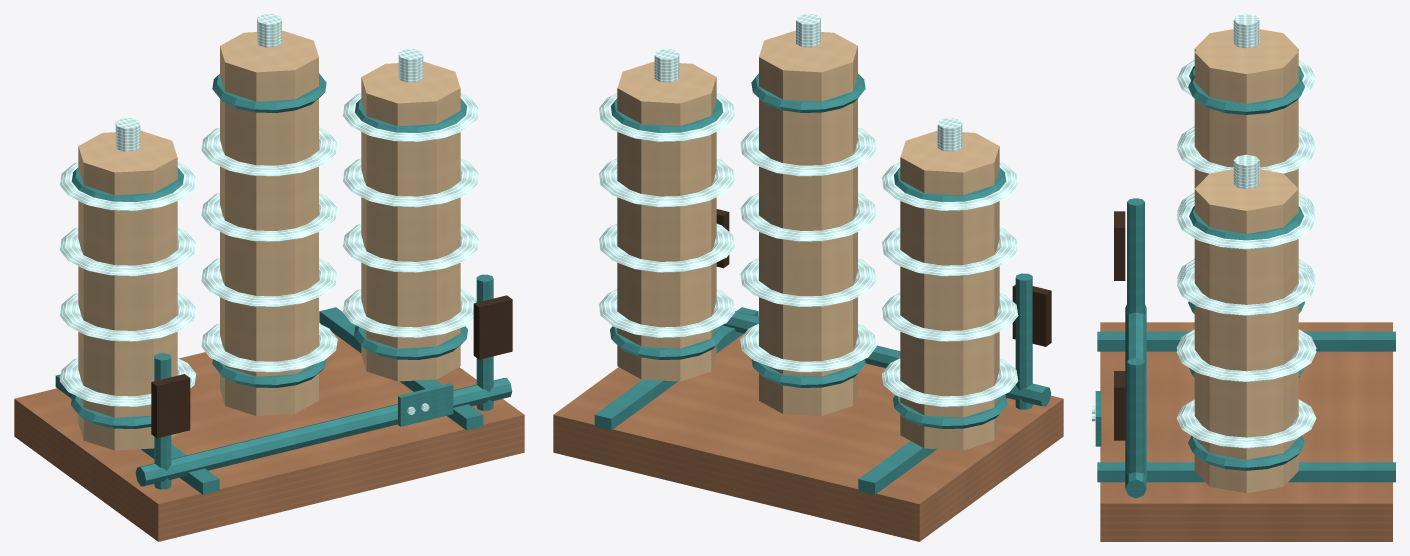
The model's file is atlas100-s094-a01.glb.
3 renders of one model, left to right at view 1: azimuth 30°, elevation 25°; view 2: azimuth 150°, elevation 25°; view 3: azimuth 270°, elevation 25°, orthographic.
Parts seen in each view (by area): view 1: atlas100-s094-a01:part-000, atlas100-s094-a01:part-011, atlas100-s094-a01:part-019, atlas100-s094-a01:part-003, atlas100-s094-a01:part-031, atlas100-s094-a01:part-008, atlas100-s094-a01:part-009, atlas100-s094-a01:part-025, atlas100-s094-a01:part-024, atlas100-s094-a01:part-015, atlas100-s094-a01:part-018, atlas100-s094-a01:part-017 (+21 smaller); view 2: atlas100-s094-a01:part-000, atlas100-s094-a01:part-011, atlas100-s094-a01:part-003, atlas100-s094-a01:part-019, atlas100-s094-a01:part-008, atlas100-s094-a01:part-023, atlas100-s094-a01:part-009, atlas100-s094-a01:part-025, atlas100-s094-a01:part-024, atlas100-s094-a01:part-007, atlas100-s094-a01:part-015, atlas100-s094-a01:part-018 (+18 smaller); view 3: atlas100-s094-a01:part-000, atlas100-s094-a01:part-019, atlas100-s094-a01:part-011, atlas100-s094-a01:part-002, atlas100-s094-a01:part-001, atlas100-s094-a01:part-023, atlas100-s094-a01:part-025, atlas100-s094-a01:part-024, atlas100-s094-a01:part-027, atlas100-s094-a01:part-029, atlas100-s094-a01:part-031, atlas100-s094-a01:part-026 (+10 smaller).
Part boxes in pixels (x1,y1,x2,y2): atlas100-s094-a01:part-000: (14,324,524,541); atlas100-s094-a01:part-011: (220,30,318,415); atlas100-s094-a01:part-019: (361,61,460,381); atlas100-s094-a01:part-003: (78,130,177,450); atlas100-s094-a01:part-031: (135,378,512,486); atlas100-s094-a01:part-008: (59,293,196,341); atlas100-s094-a01:part-009: (59,227,196,276); atlas100-s094-a01:part-025: (342,158,479,207); atlas100-s094-a01:part-024: (342,223,479,272); atlas100-s094-a01:part-015: (201,323,337,372); atlas100-s094-a01:part-018: (201,127,337,176); atlas100-s094-a01:part-017: (201,192,337,241); atlas100-s094-a01:part-000: (553,333,1063,541); atlas100-s094-a01:part-011: (759,30,857,415); atlas100-s094-a01:part-003: (900,130,999,450); atlas100-s094-a01:part-019: (617,61,716,381); atlas100-s094-a01:part-008: (881,293,1018,341); atlas100-s094-a01:part-023: (598,289,735,337); atlas100-s094-a01:part-009: (881,227,1018,276); atlas100-s094-a01:part-025: (598,158,735,207); atlas100-s094-a01:part-024: (598,223,735,272); atlas100-s094-a01:part-007: (881,358,1018,406); atlas100-s094-a01:part-015: (740,323,876,372); atlas100-s094-a01:part-018: (740,127,876,176); atlas100-s094-a01:part-000: (1100,322,1392,541); atlas100-s094-a01:part-019: (1194,169,1298,493); atlas100-s094-a01:part-011: (1194,32,1298,188); atlas100-s094-a01:part-002: (1097,462,1395,482); atlas100-s094-a01:part-001: (1097,331,1395,351); atlas100-s094-a01:part-023: (1176,399,1316,448); atlas100-s094-a01:part-025: (1176,266,1316,315); atlas100-s094-a01:part-024: (1177,333,1316,381); atlas100-s094-a01:part-027: (1127,198,1144,314); atlas100-s094-a01:part-029: (1127,358,1144,473); atlas100-s094-a01:part-031: (1125,304,1146,498); atlas100-s094-a01:part-026: (1176,200,1316,249).
Size of the model in its own units: 2.9 by 2.93 by 1.87.
Materials: 5 (5 with a texture image).
